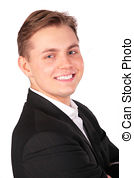face: (14, 7, 91, 103)
